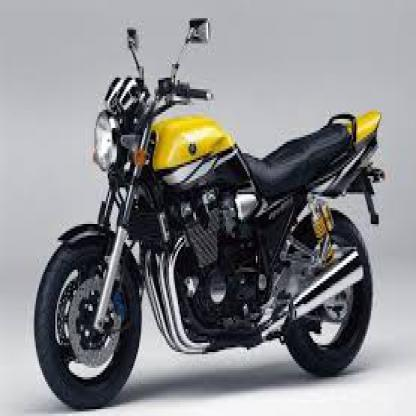Motorcycle: (27, 15, 386, 410)
